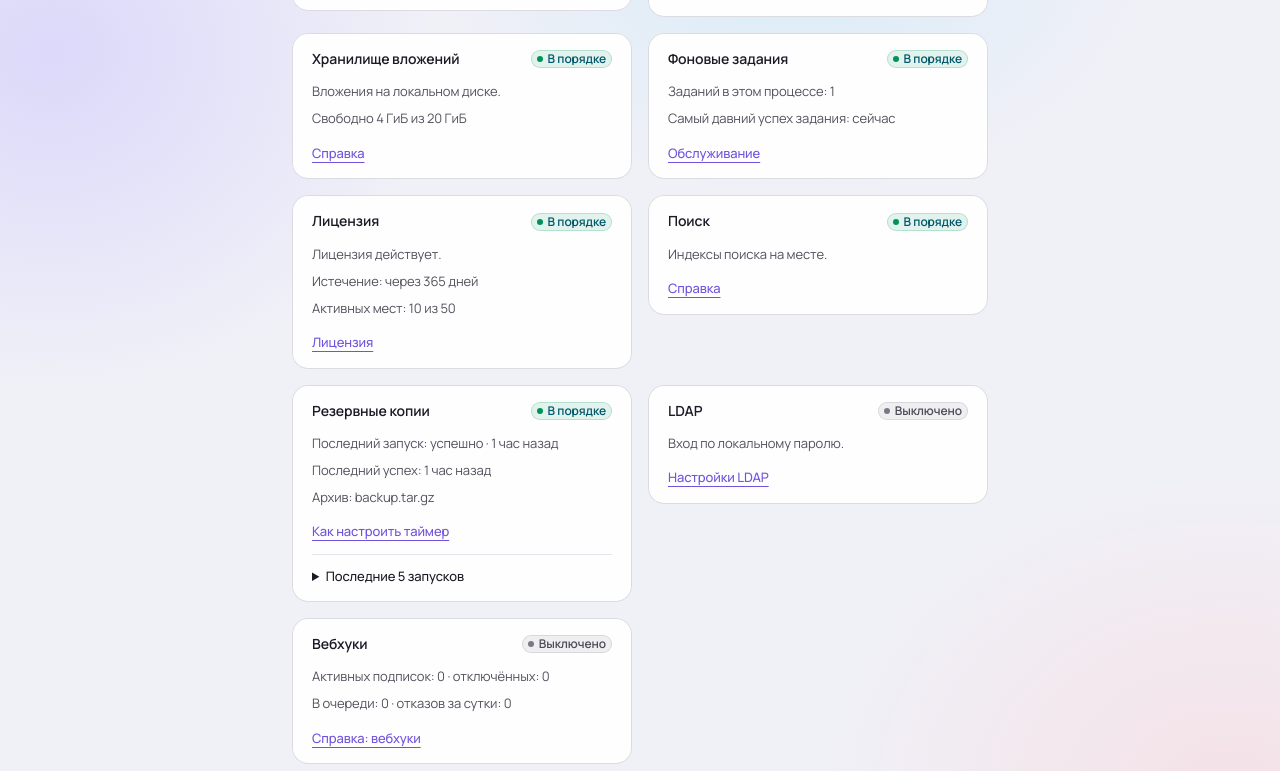
Test: без опроса; явное обновление меняет снимок и сбрасывает историю
The width and height of the screenshot is (1280, 771).
(page scrolled)
Click the heading "Последние 5 запусков" below "Резервные копии": (395, 576) [326,567,464,585]
(page scrolled)
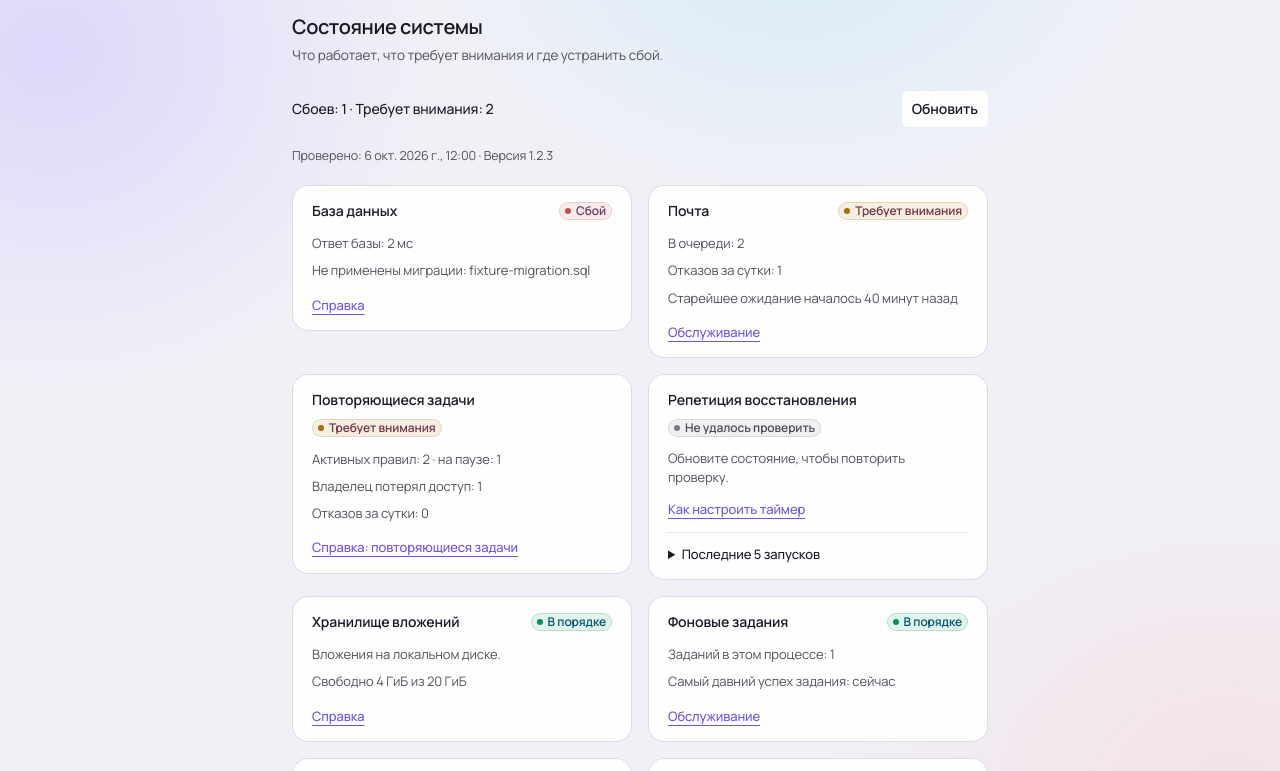
Click the button "Обновить": (945, 109) [902,91,988,127]
(page scrolled)
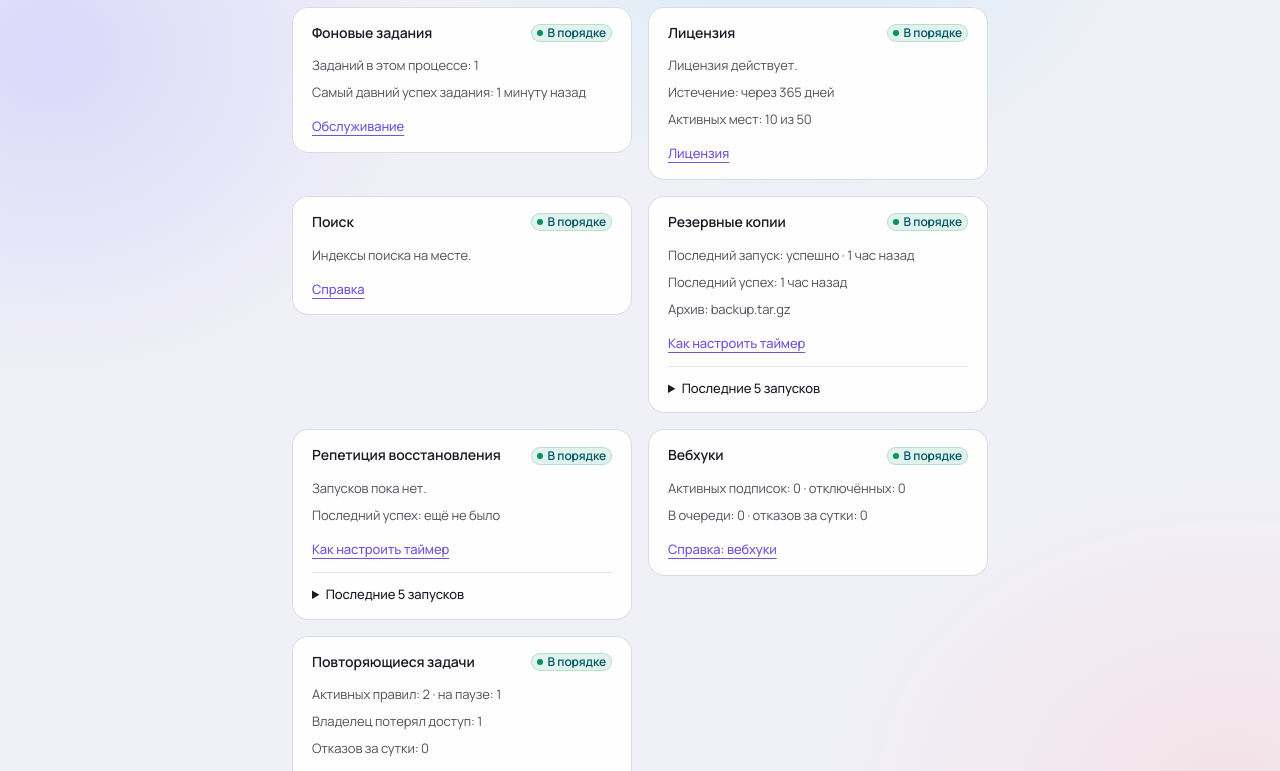
Expected: the text "history-backup.tar.gz" is not shown
Click the heading "Последние 5 запусков" below "Резервные копии": (751, 388) [682,379,820,397]
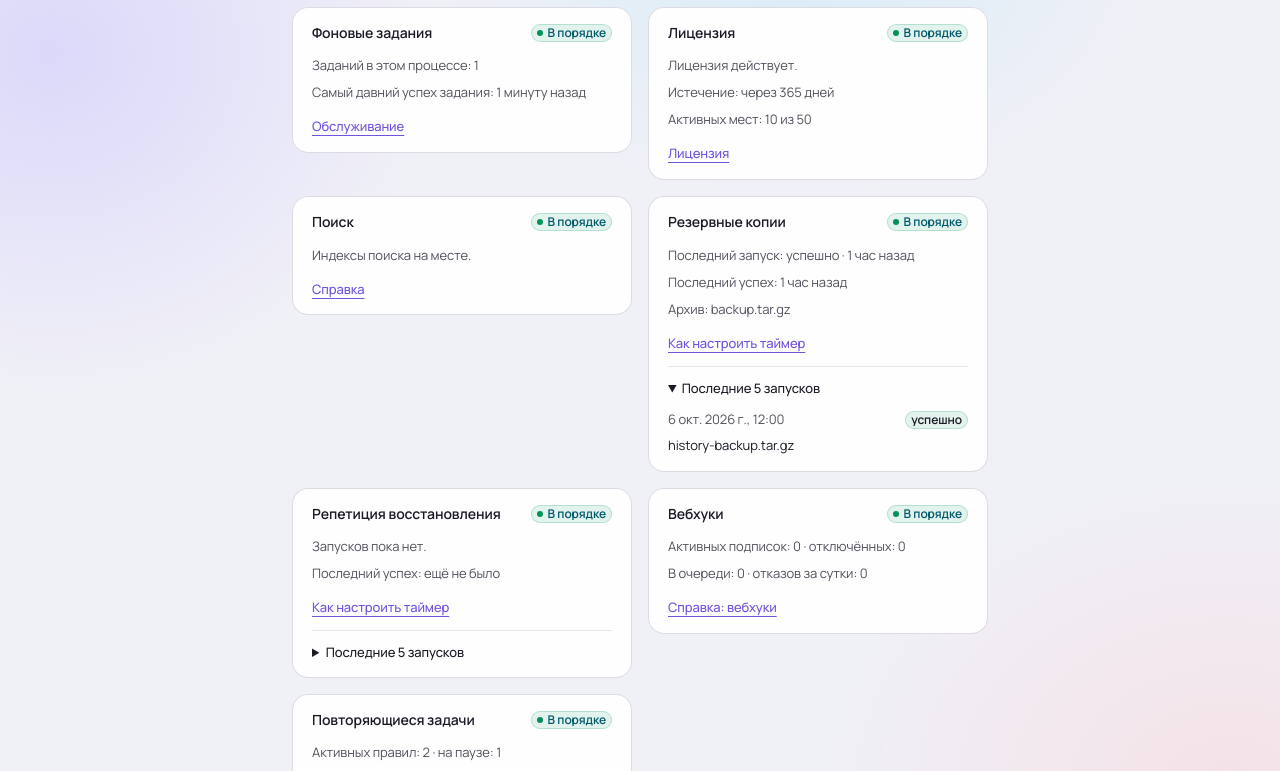
Result: the text "history-backup.tar.gz" is shown at [668,436,794,454]
